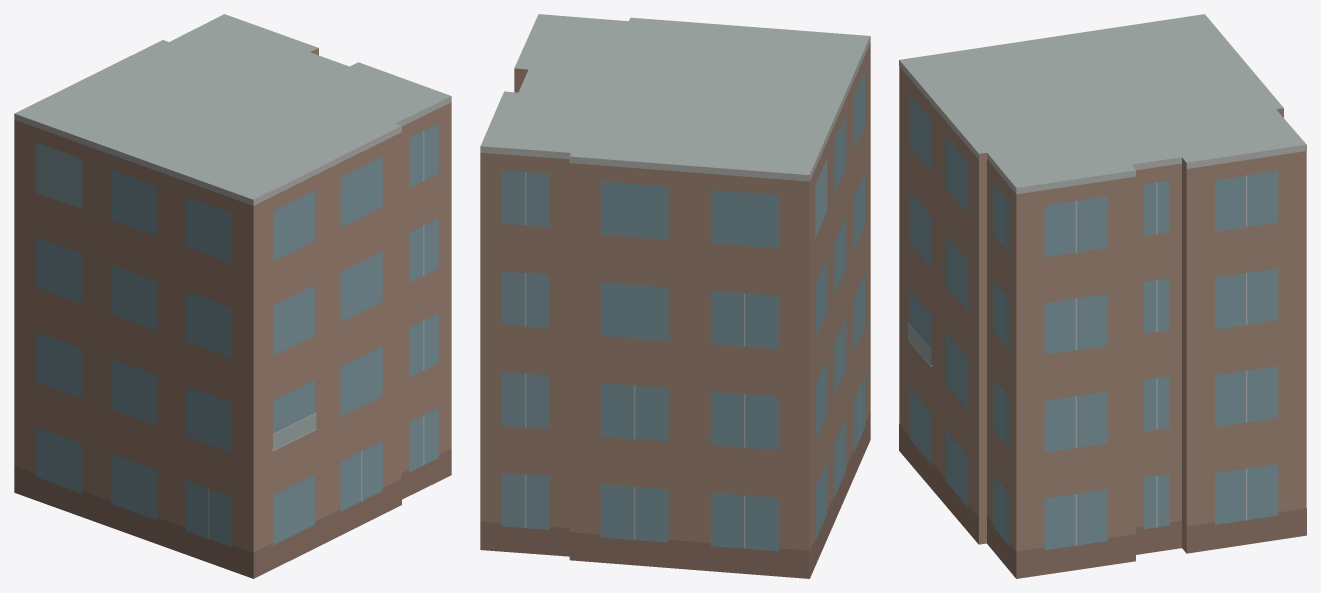
Rendered from survey-upis-32973616.glb.
3 renders of one model, left to right at view 1: azimuth 30°, elevation 25°; view 2: azimuth 150°, elevation 25°; view 3: azimuth 270°, elevation 25°, orthographic. The views are drawn at different scales.
Visible parts, largest first — view 1: survey-upis-32973616.tmp; view 2: survey-upis-32973616.tmp; view 3: survey-upis-32973616.tmp.
Boxes of the visible parts, box(x1,y1,x2,y2) form: survey-upis-32973616.tmp: box(14, 14, 451, 578); survey-upis-32973616.tmp: box(480, 14, 870, 578); survey-upis-32973616.tmp: box(899, 14, 1306, 578).
Size of the model in its own units: 14.56 by 15.23 by 14.41.
